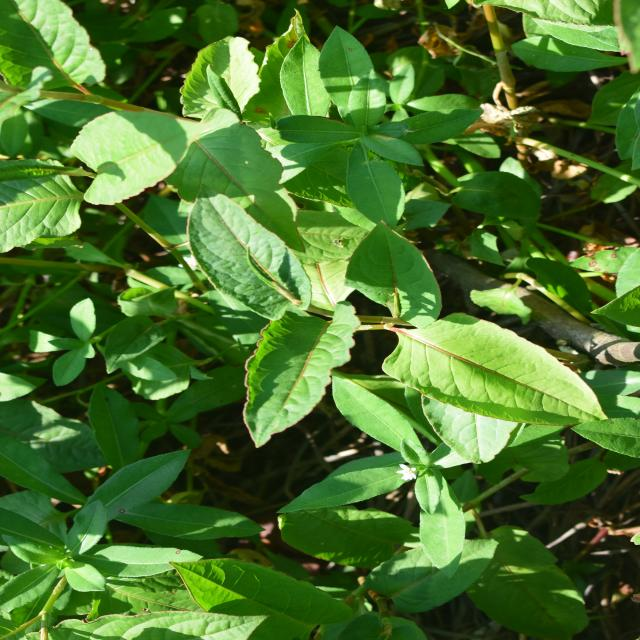Chinese_knotweed: (208, 167, 437, 568)
